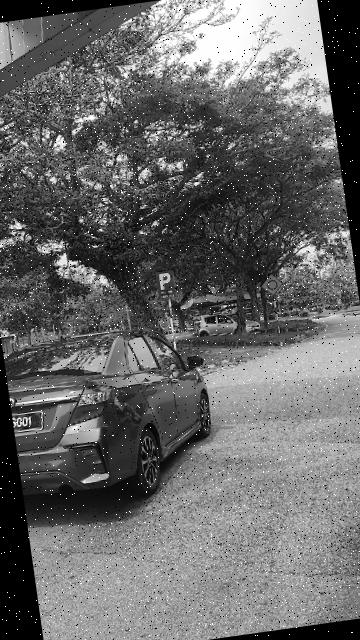License_Plate: (10, 393, 53, 438)
car: (3, 313, 227, 508)
